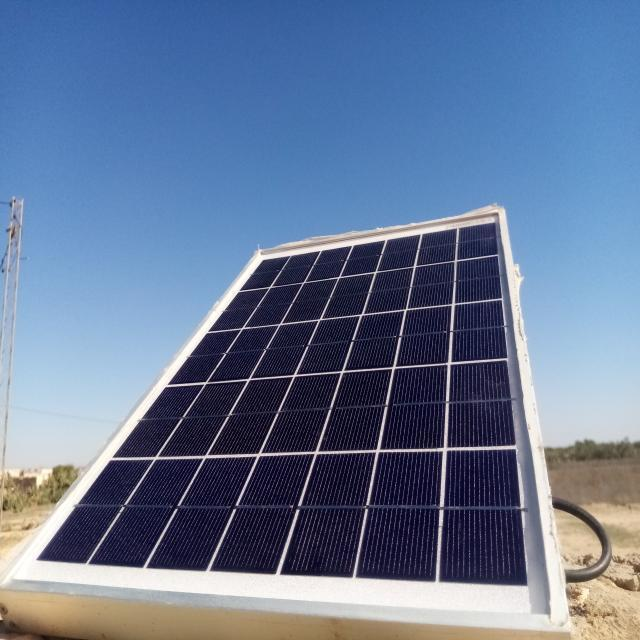no faulty: (0, 211, 562, 636)
